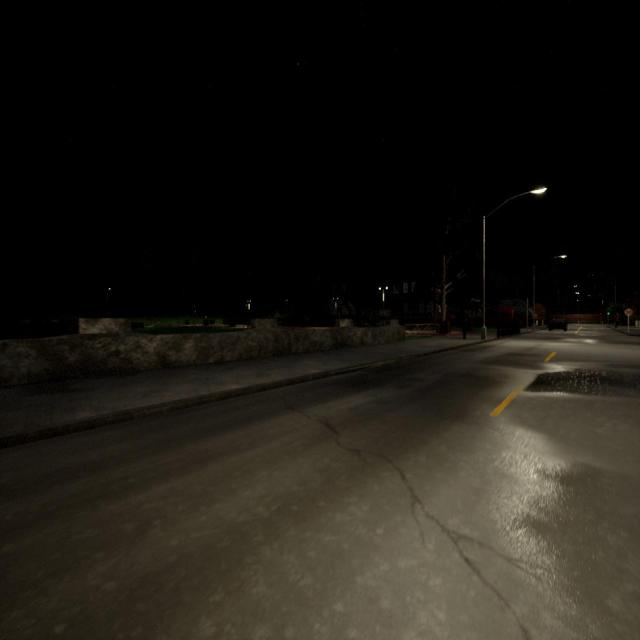Pedestrian: (461, 310, 472, 339)
Traffic_Signs: (624, 308, 633, 316)
Vehicle: (496, 306, 520, 338), (548, 316, 568, 332)
traffic_light: (607, 309, 610, 316), (600, 312, 602, 316)
